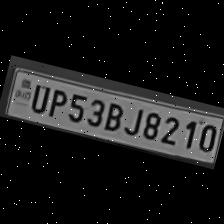0: (193, 119, 219, 154)
1: (176, 114, 200, 150)
2: (156, 111, 183, 148)
3: (82, 94, 108, 128)
5: (62, 88, 89, 124)
8: (138, 106, 163, 141)
B: (99, 96, 126, 132)
J: (120, 102, 144, 136)
P: (44, 84, 68, 120)
U: (26, 79, 52, 115)
